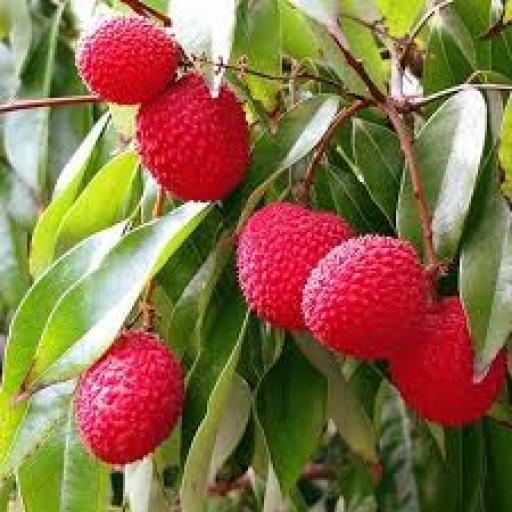lychee: (303, 235, 427, 359), (392, 299, 507, 425), (237, 203, 352, 329), (76, 330, 184, 464), (137, 73, 250, 200), (76, 16, 179, 104)
